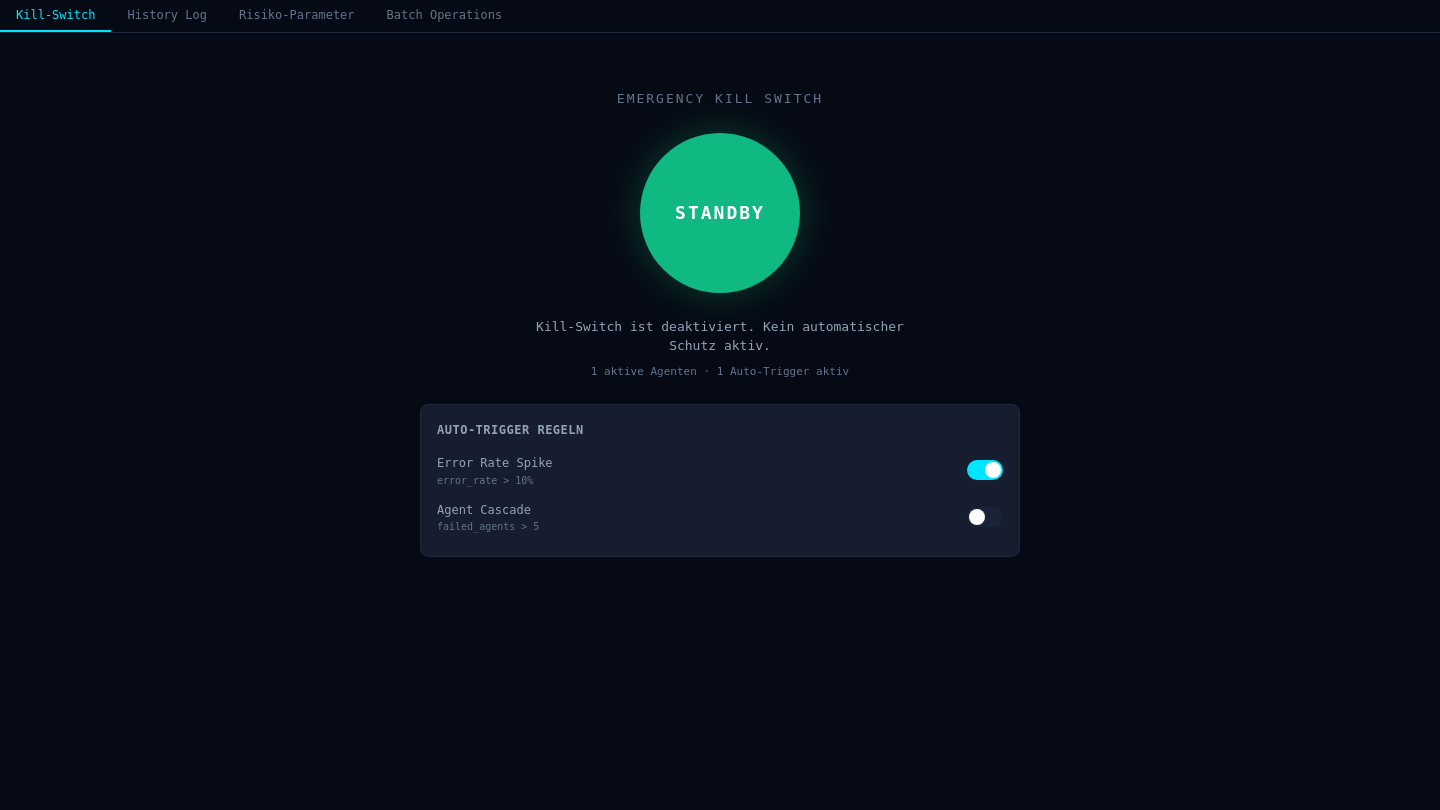
Test: KillSwitchView › opens confirmation dialog when main button clicked
The width and height of the screenshot is (1440, 810).
Click the button "STANDBY" at (720, 212), box [640, 132, 800, 292]
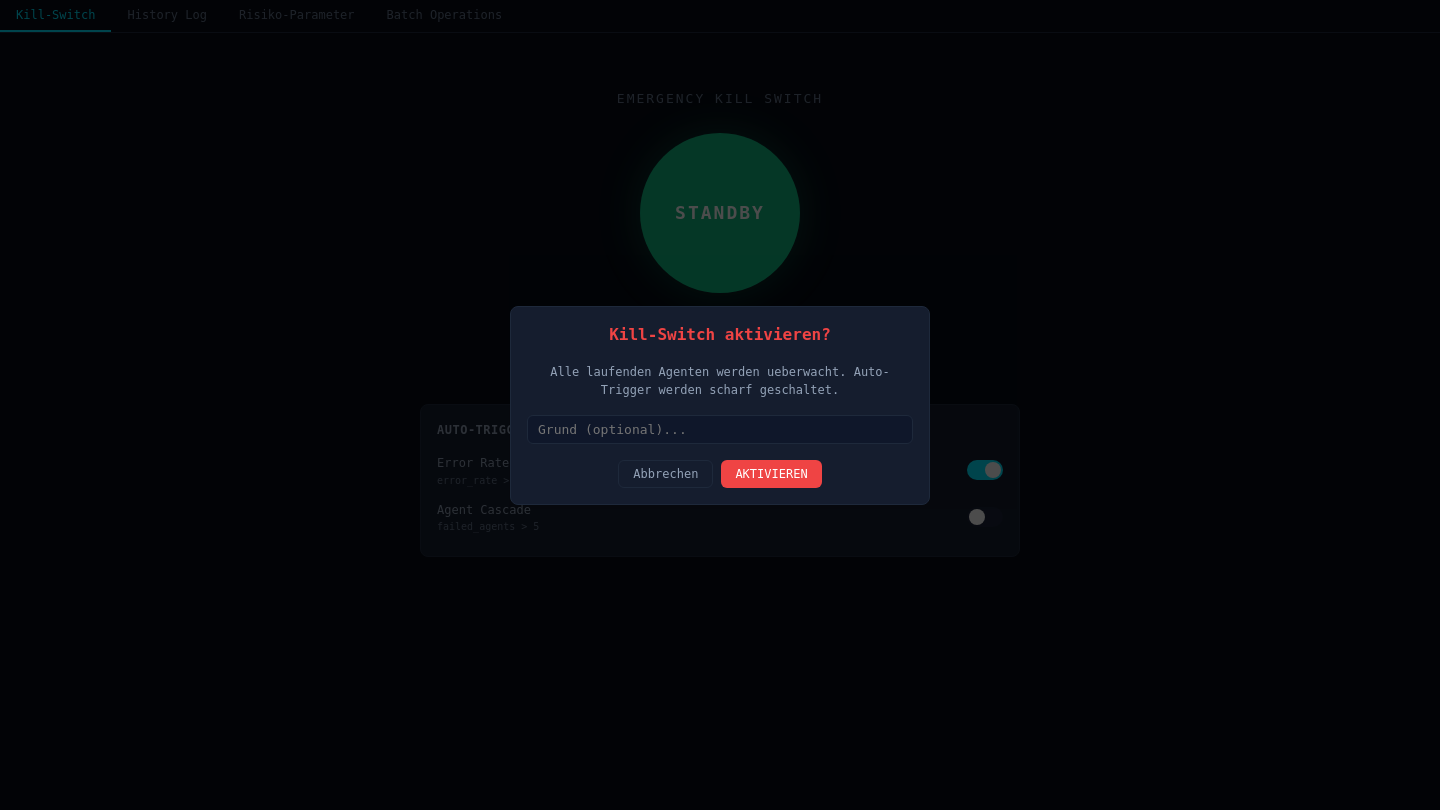
Result: the text "Kill-Switch aktivieren?" is shown at [609, 324, 831, 344]
Result: the button "AKTIVIEREN" is shown at [721, 460, 822, 488]
Result: the button "Abbrechen" is shown at [618, 460, 713, 488]
